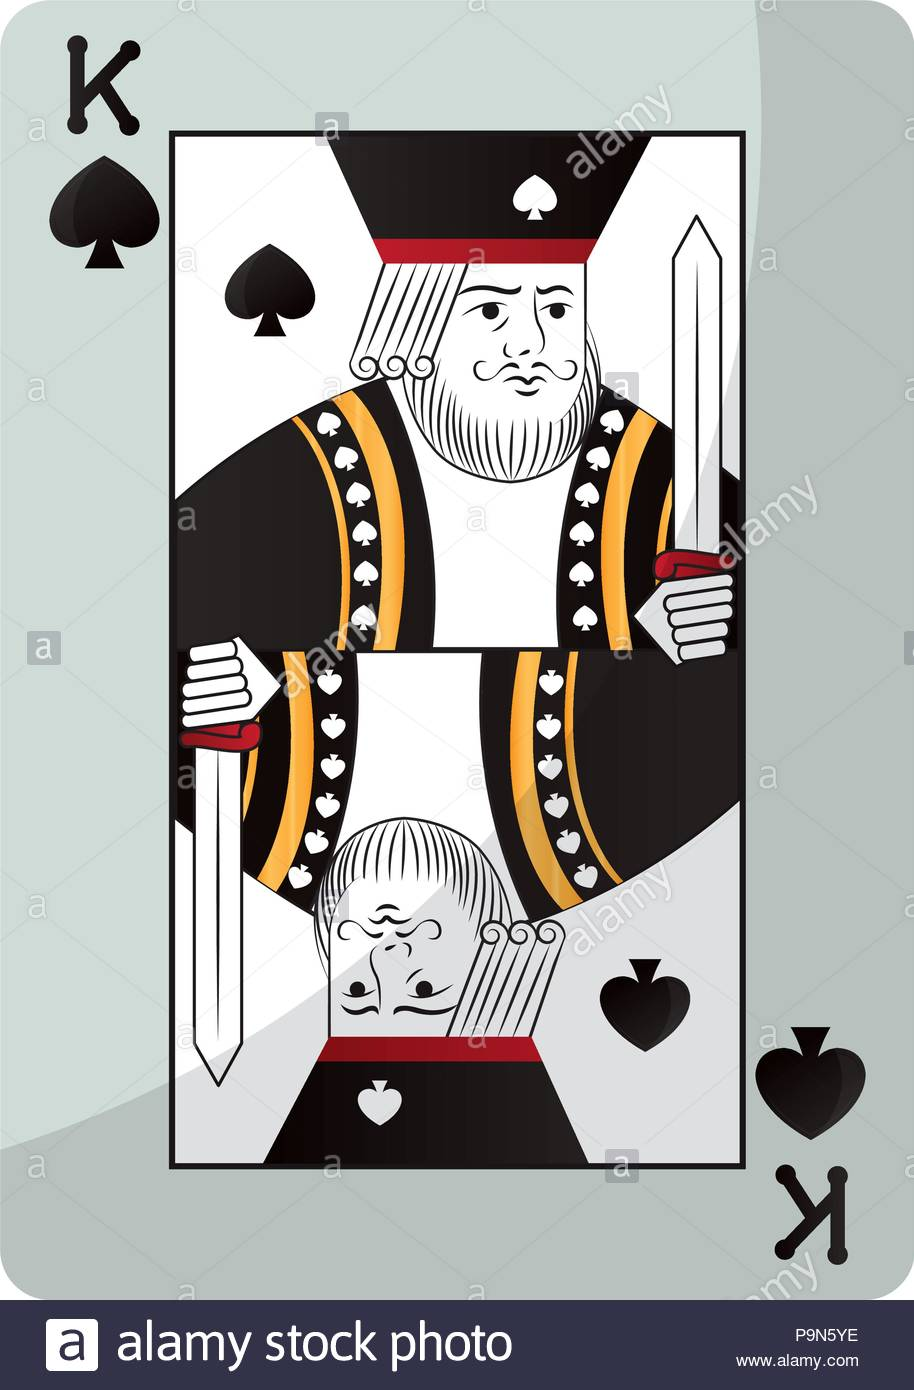king of spades: (17, 18, 881, 1291)
